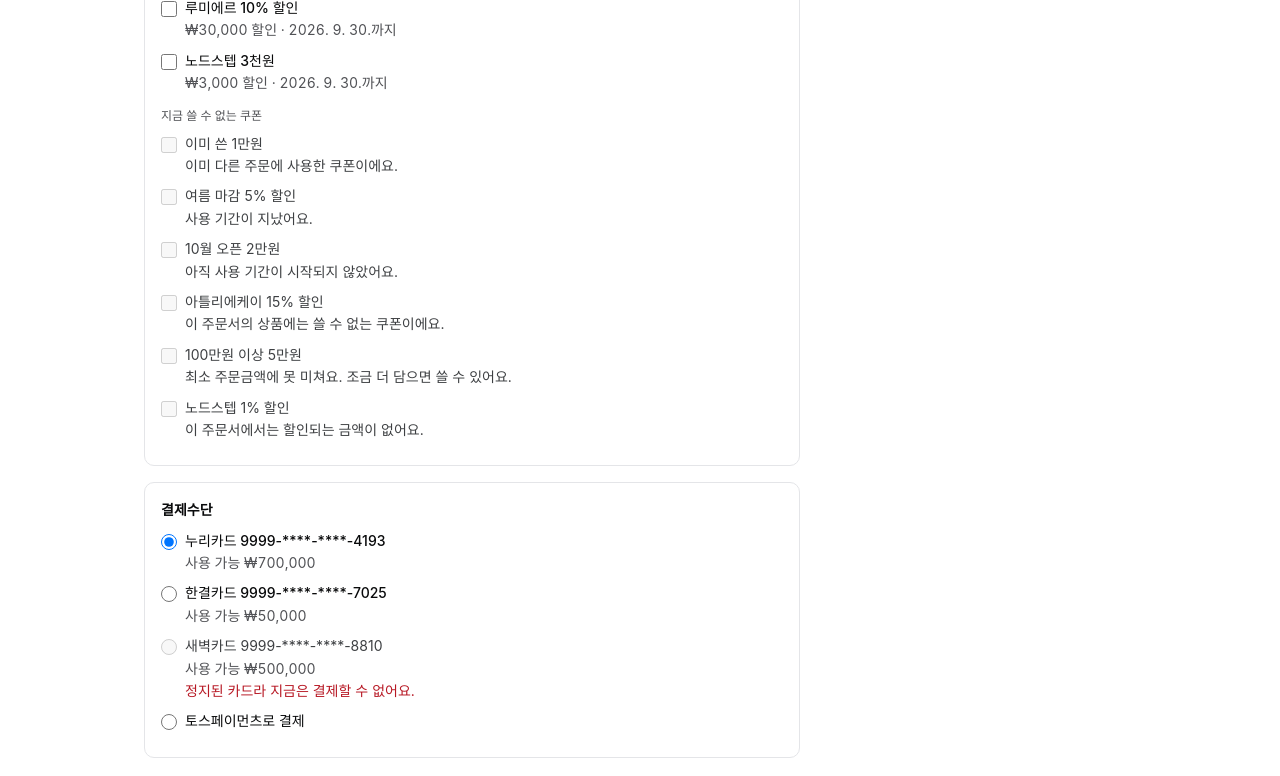
Test: 결제창으로 넘어간다 (4.2 · 4.3) › never captures anything by itself — the return screen does that
(page scrolled)
expect the element named "결제수단 선택" is shown: met, box [160,531,415,730]
What coordinates should you click on to do the following:
click the radio button labelled "토스페이먼츠로 결제"
I would click on:
 (169, 722)
Its box is [161,714,177,730].
(page scrolled)
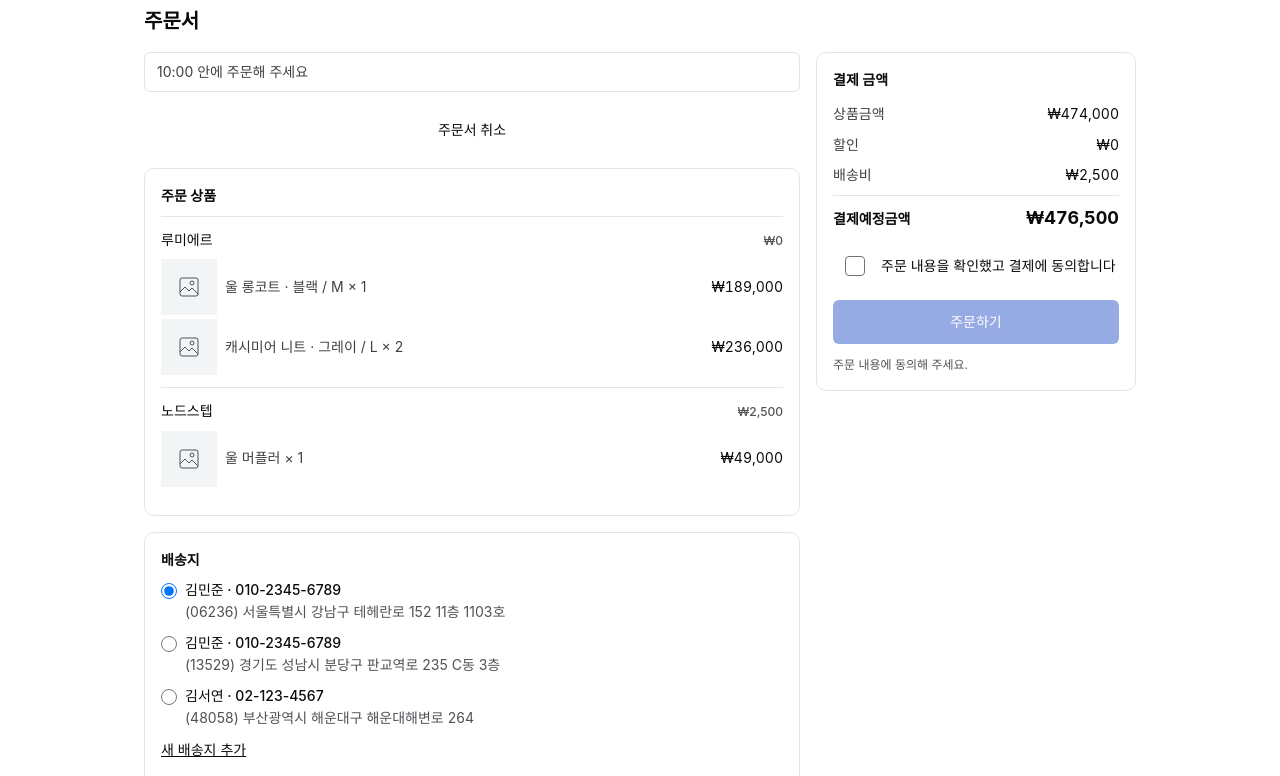
What coordinates should you click on to do the following:
click the checkbox named "주문 내용을 확인했고 결제에 동의합니다"
I would click on:
 (855, 266)
Its box is [833,244,877,288].
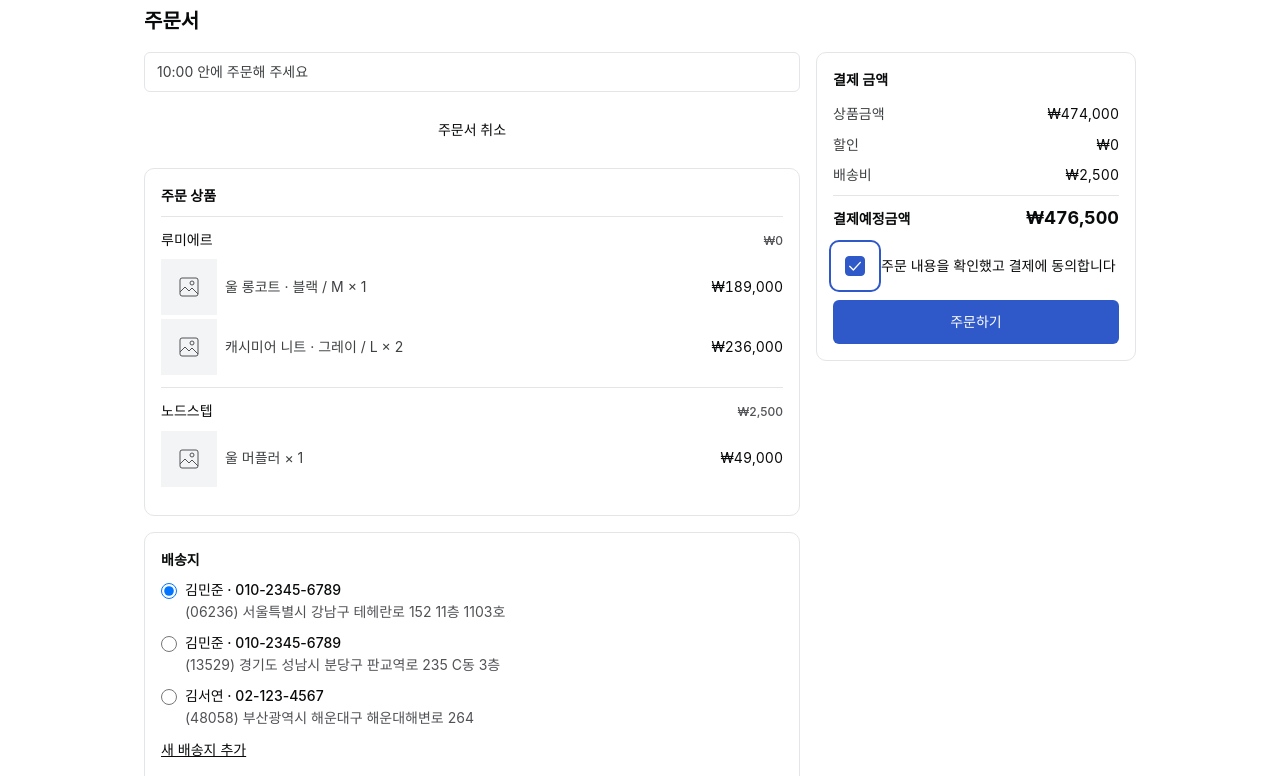
What coordinates should you click on to do the following:
click the button "주문하기"
I would click on:
 (976, 322)
Its box is [833,300,1119,344].
(page scrolled)
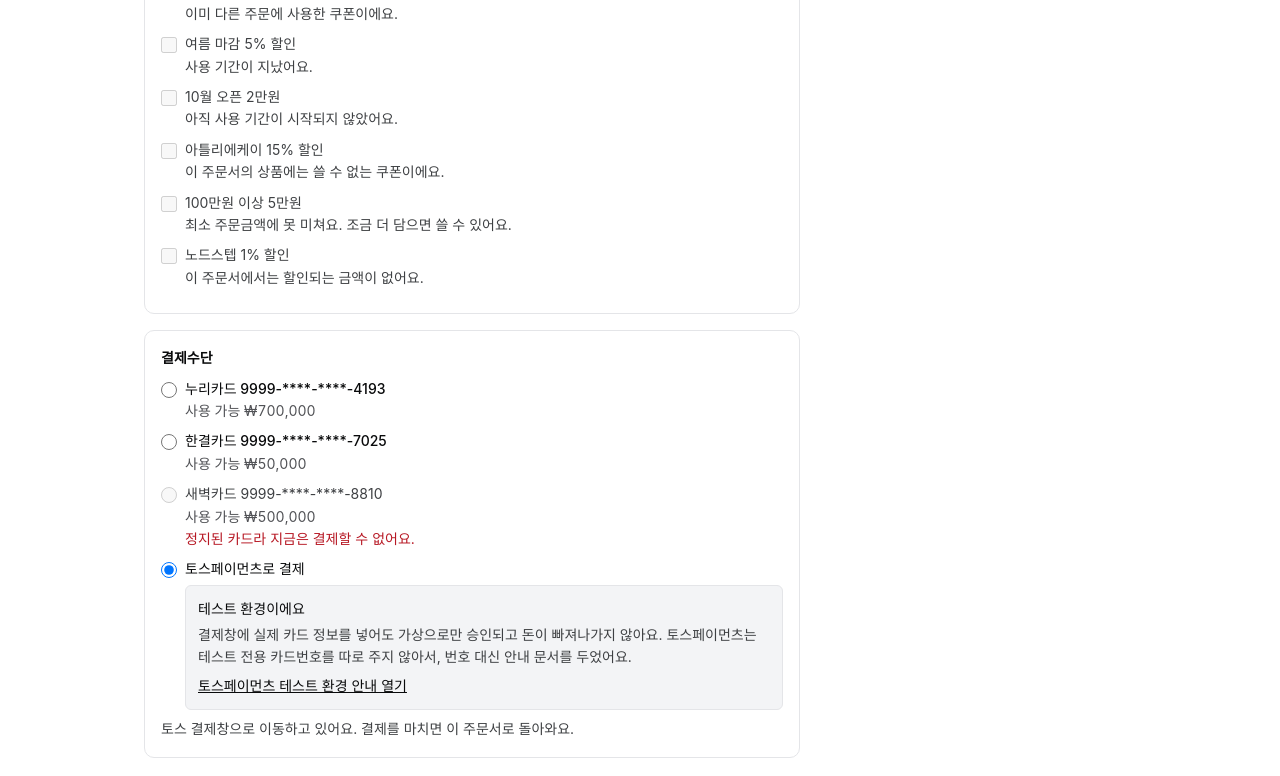
expect the text "토스 결제창으로 이동하고 있어요. 결제를 마치면 이 주문서로 돌아와요." is shown: met, box [161,720,574,737]
